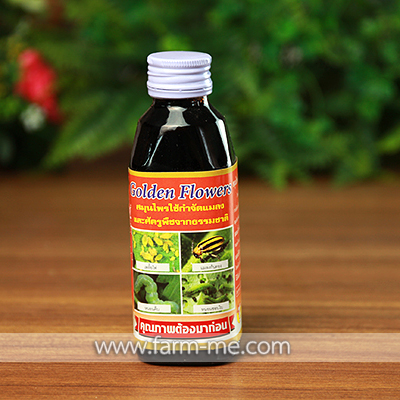Insecticide: (123, 45, 248, 370)
